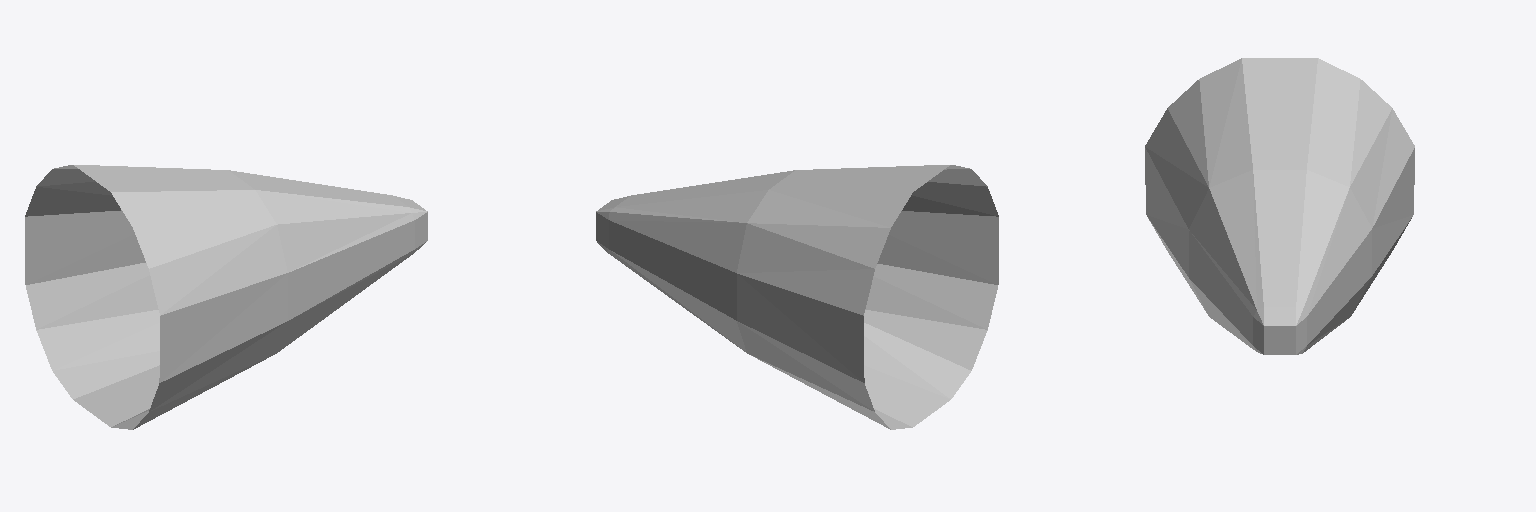
Rendered from BomberCone.obj.
3 renders of one model, left to right at view 1: azimuth 30°, elevation 25°; view 2: azimuth 150°, elevation 25°; view 3: azimuth 270°, elevation 25°, orthographic.
Parts seen in each view (by area): view 1: BomberCone_Cylinder; view 2: BomberCone_Cylinder; view 3: BomberCone_Cylinder.
Boxes of the visible parts, box(x1,y1,x2,y2) form: BomberCone_Cylinder: box(25, 165, 427, 429); BomberCone_Cylinder: box(596, 165, 998, 429); BomberCone_Cylinder: box(1145, 58, 1414, 354).
Bounding box in the file's own units: 35.15 × 24.06 × 25.06.